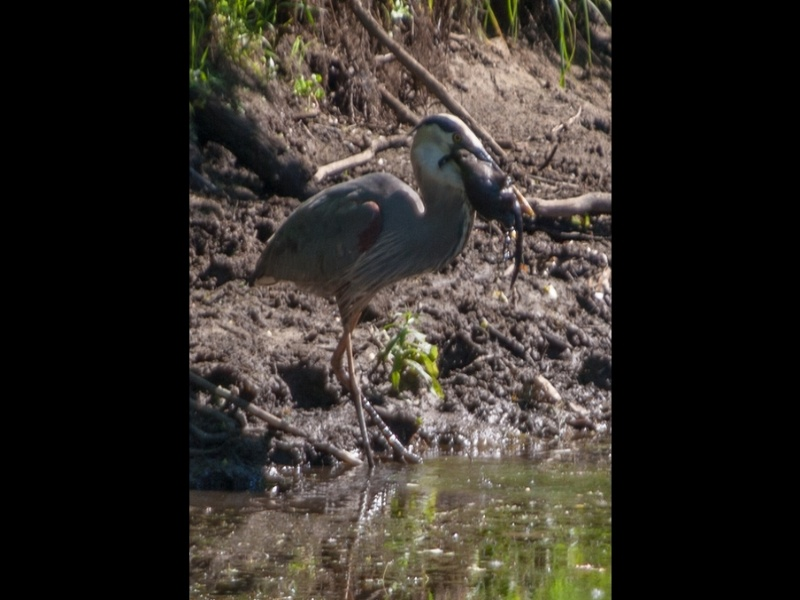heron: (243, 111, 531, 475)
